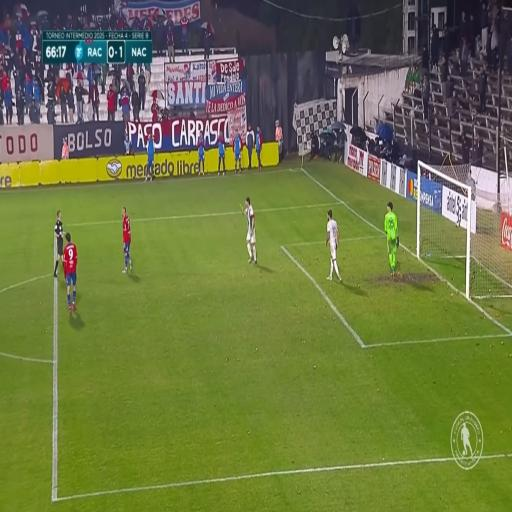Goalkeeper: (386, 199, 399, 274)
Player: (324, 208, 344, 282), (62, 235, 78, 317), (242, 195, 258, 264), (120, 204, 132, 278)
Referee: (53, 210, 65, 278)
